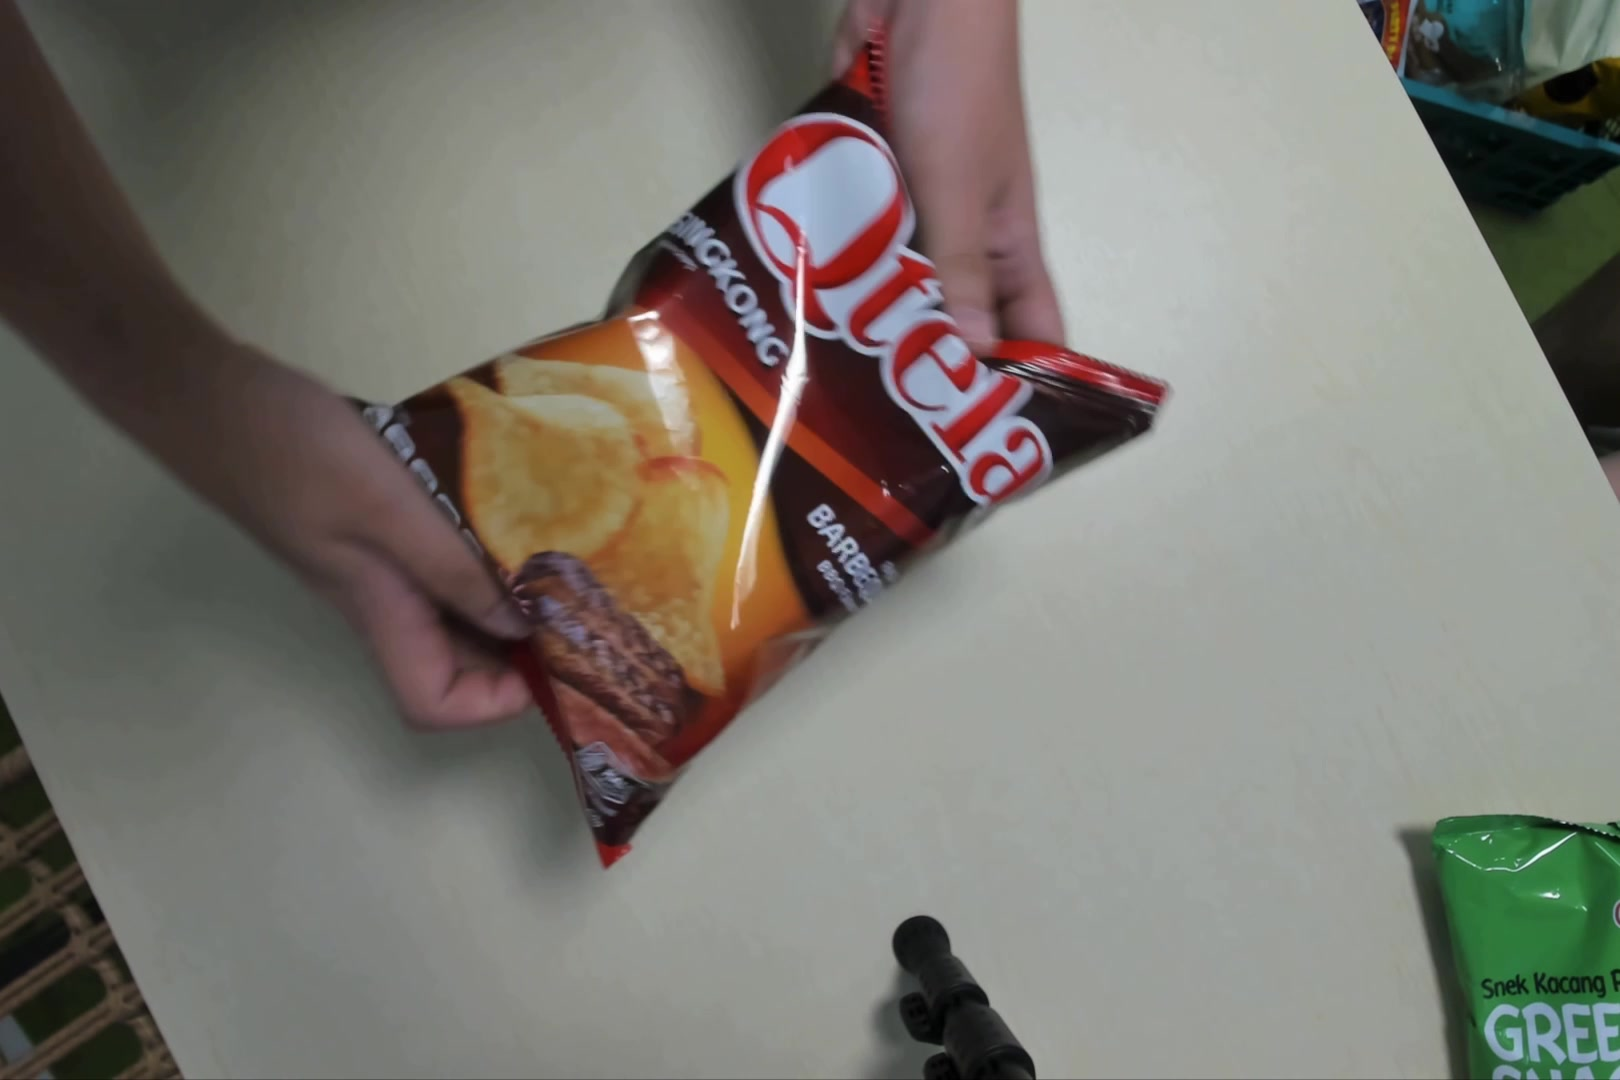PotatoChipsKeropok_0-99g_Halal_NonHealthy: (350, 39, 1176, 885)
